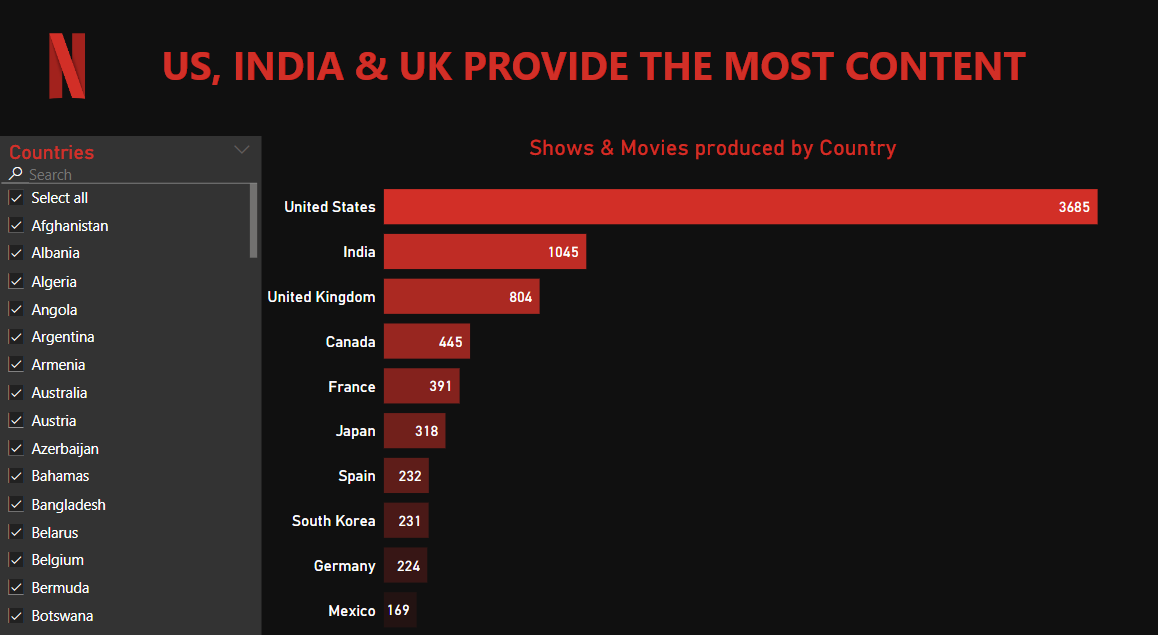

The page's visual inventory and layout, read from the dashboard file:
{"tool":"powerbi","page":{"name":"Series & Movies produced by country","canvas":[1280,720],"ordinal":4},"visuals":[{"type":"image","box":[0,0,153.7,153.7],"z":0},{"type":"textbox","box":[172.9,41.2,975.6,72.7],"z":1000},{"type":"barChart","title":"Shows & Movies produced by Country","fields":{"Y":["Count(netflix_titles.show_id)"],"Category":["netflix_titles.Countries"]},"box":[290.5,153,989.5,566.4],"z":2000},{"type":"slicer","fields":{"Values":["netflix_titles.Countries"]},"box":[0,154.3,290.8,565],"z":3000}]}

Visuals, with their boxes in screenshot pixels (x1, y1, x2, y2), scaled from the page's 1280x720 canvas onto the 1158x635 screenshot:
image: [x1=0, y1=0, x2=139, y2=136]
textbox: [x1=156, y1=36, x2=1039, y2=100]
"Shows & Movies produced by Country" barChart: [x1=263, y1=135, x2=1157, y2=634]
slicer - netflix_titles.Countries: [x1=0, y1=136, x2=263, y2=634]
